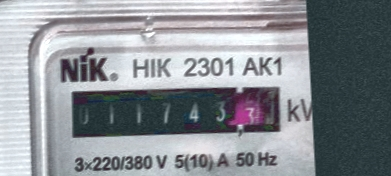0: (74, 97, 90, 124)
1: (101, 95, 117, 124), (129, 95, 144, 123)
3: (211, 94, 226, 122), (240, 103, 256, 124)
4: (185, 97, 200, 122)
7: (157, 96, 172, 122)
screen: (61, 72, 290, 148)
